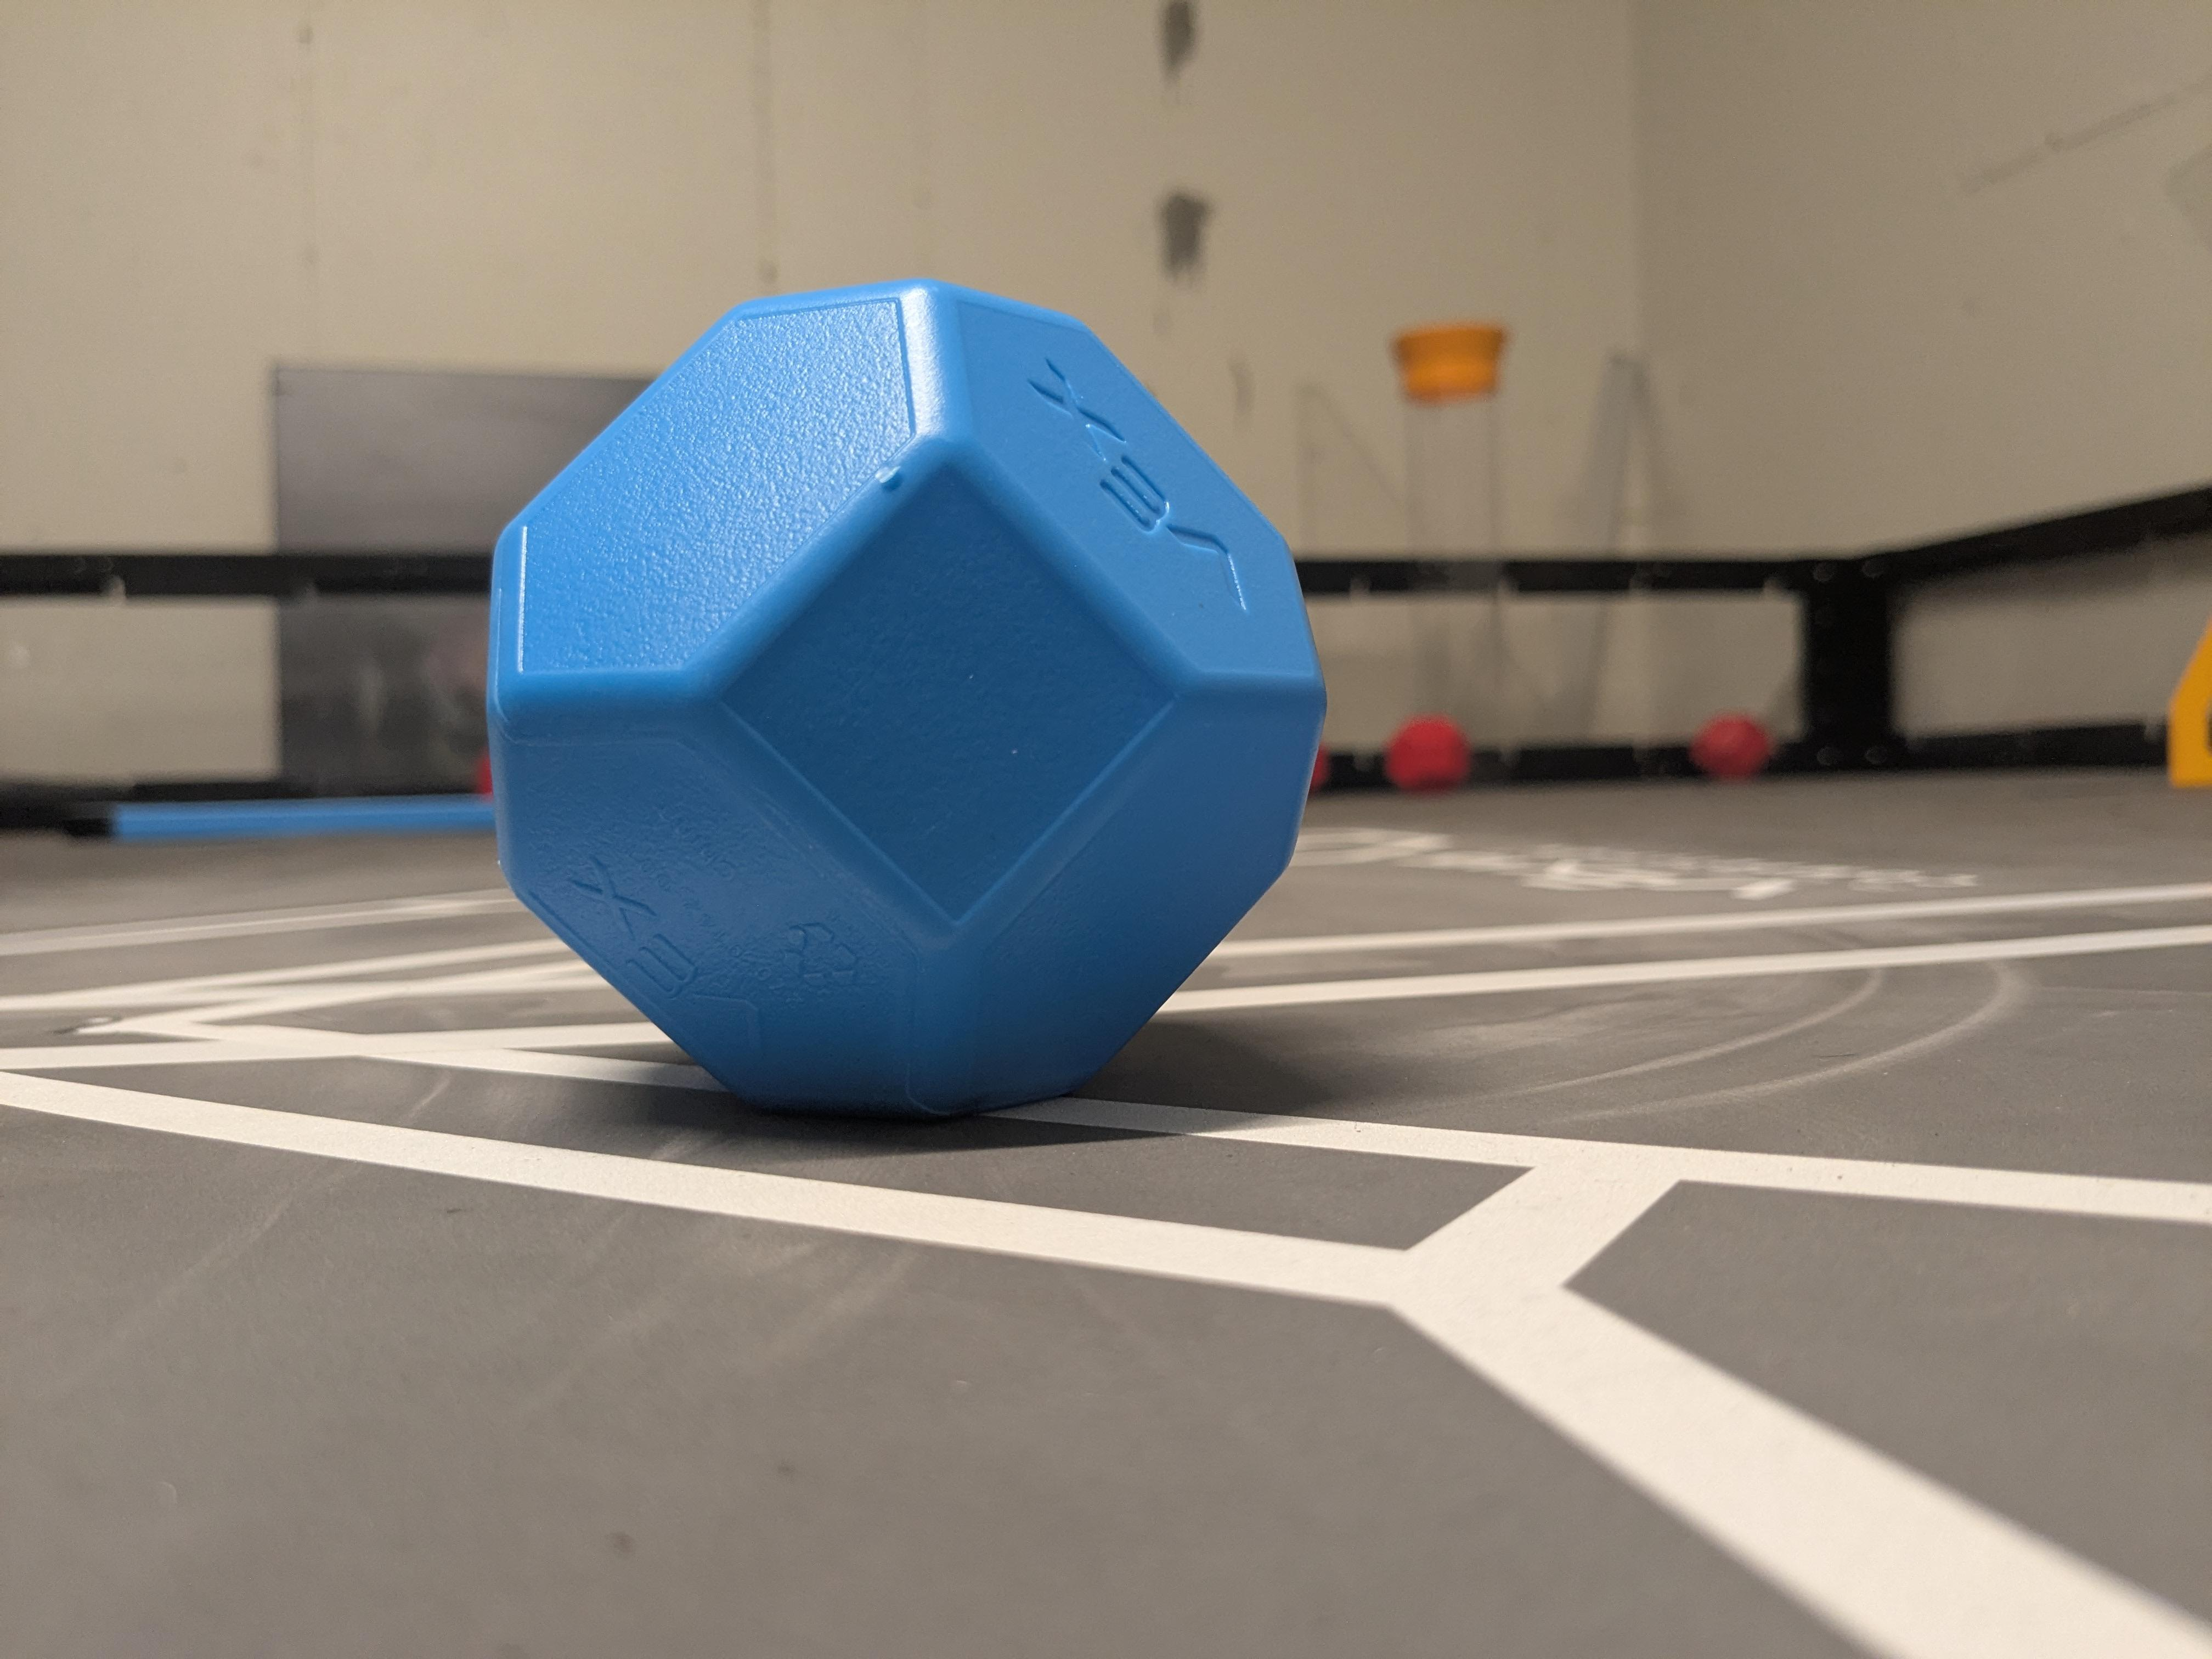Vex-Pieces-BLUE: (488, 281, 1324, 1115)
